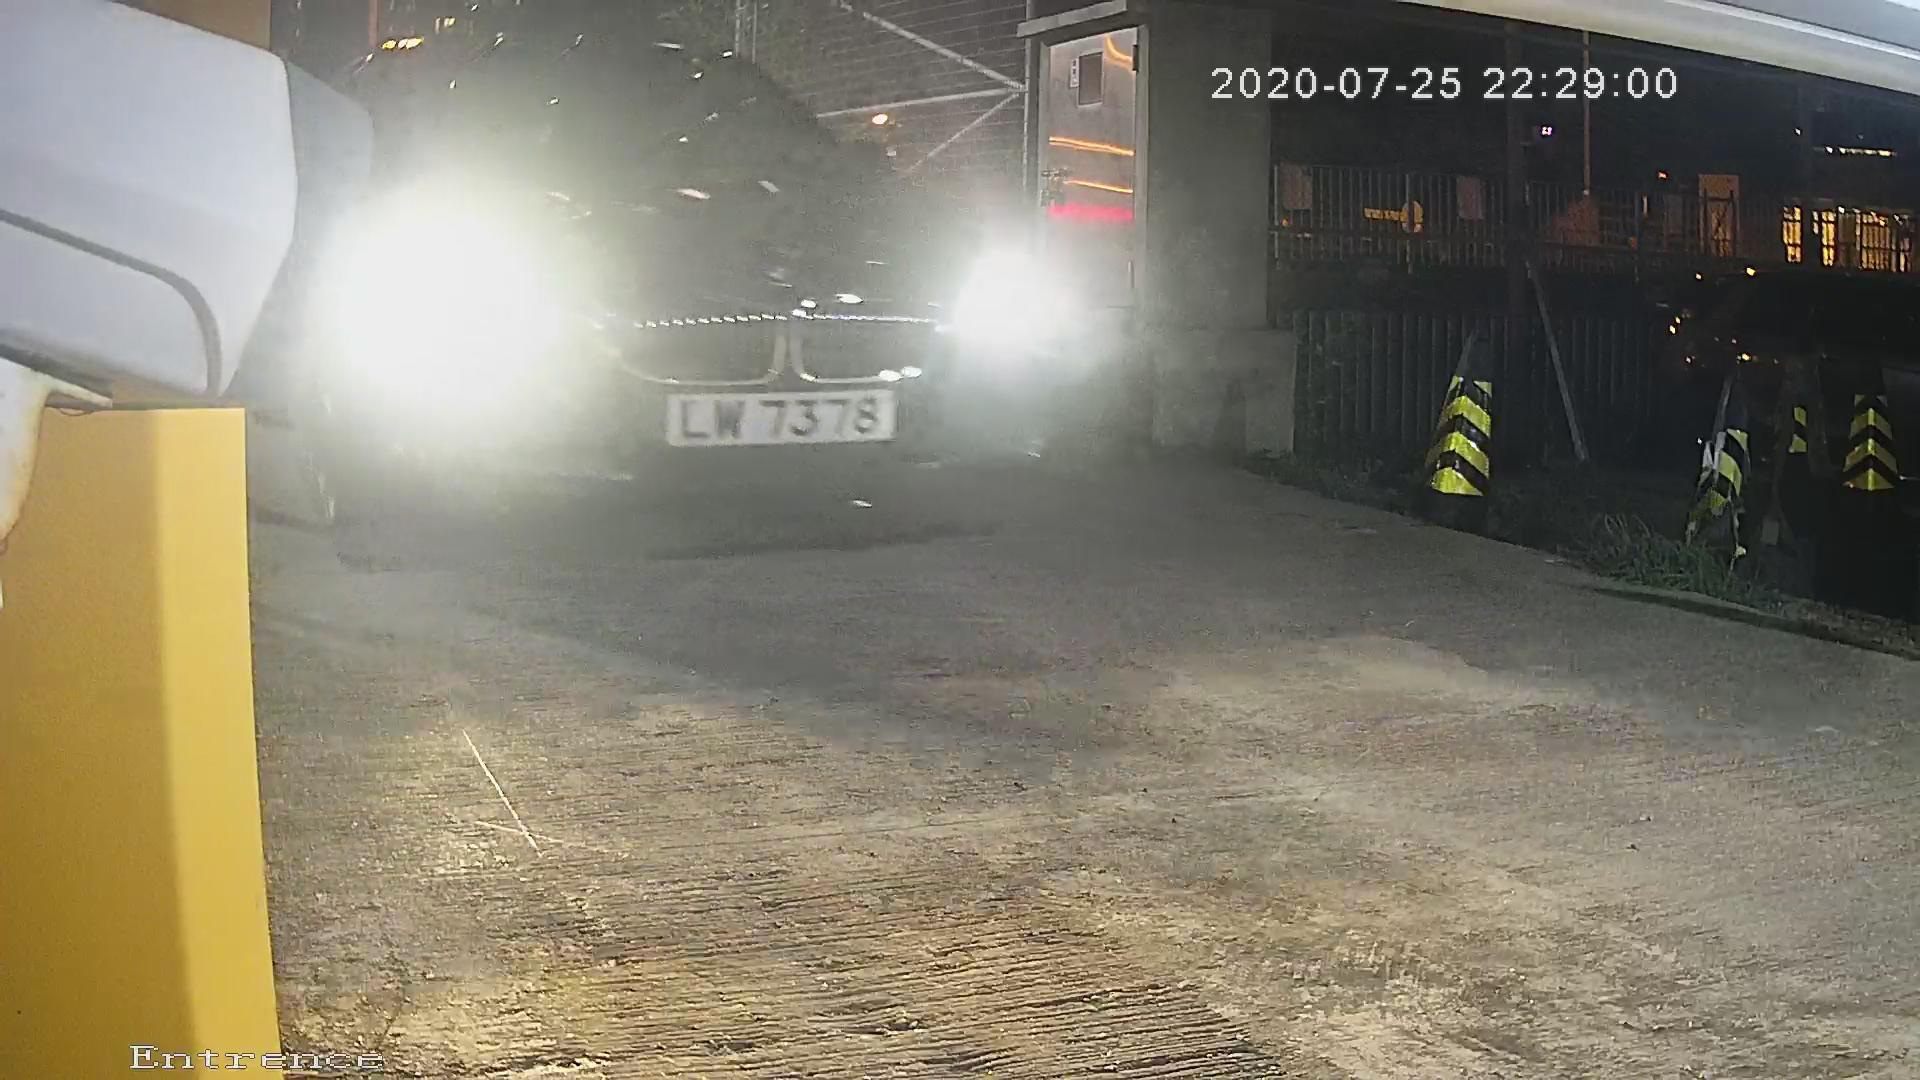privatecar: (198, 15, 1038, 574)
